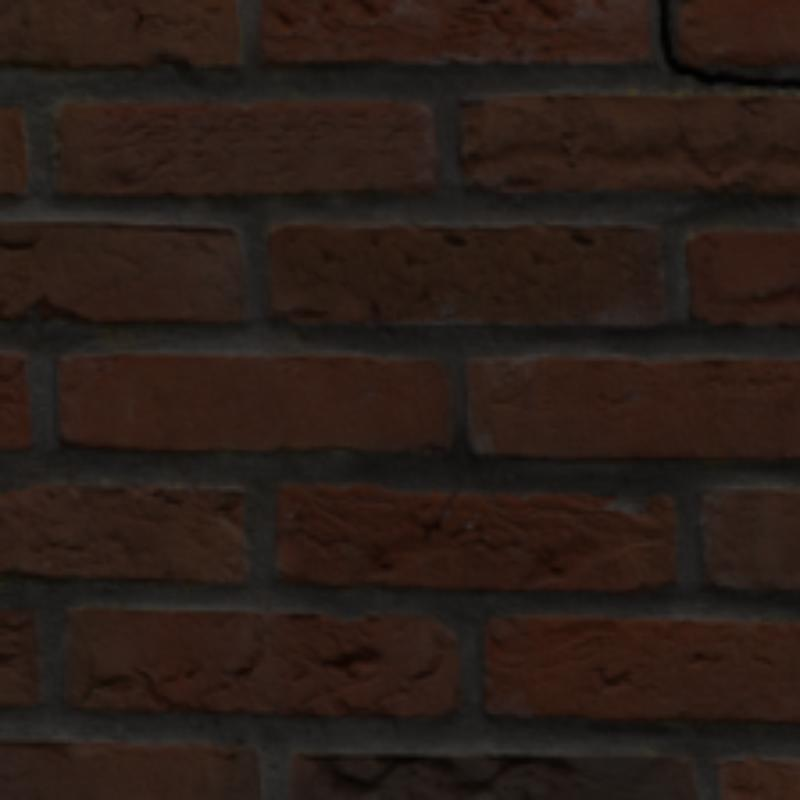pothole: (661, 0, 689, 71), (689, 71, 796, 86)
